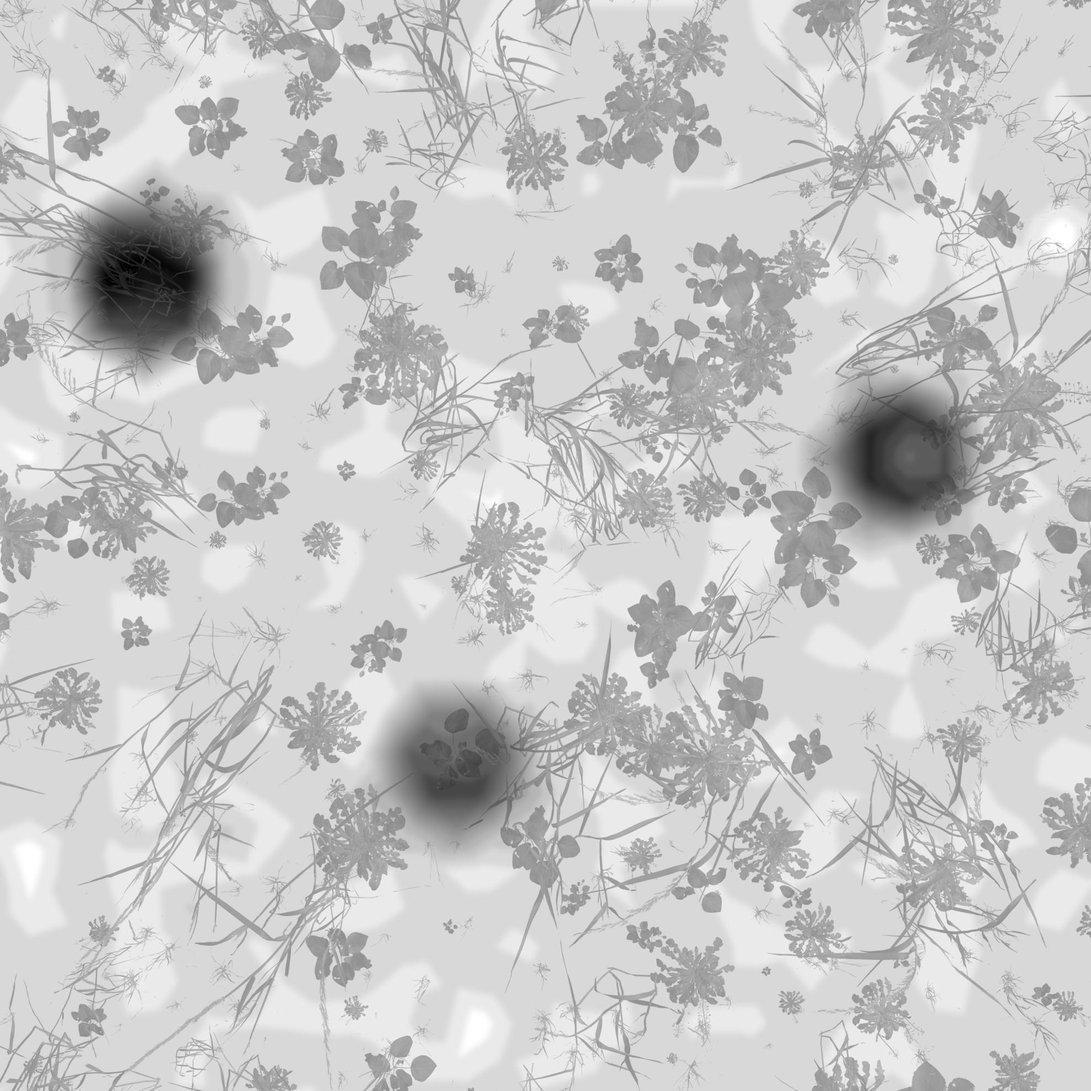landmine: (807, 373, 973, 548), (60, 206, 223, 362), (386, 695, 522, 828)
